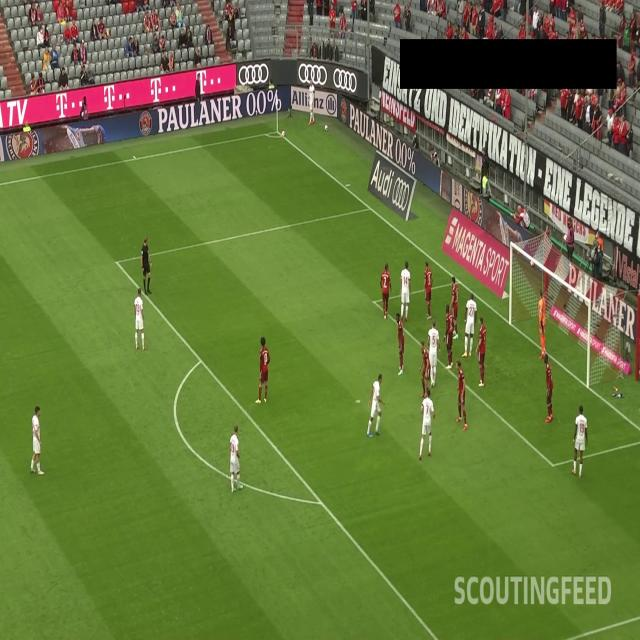ball: (280, 127, 286, 141)
player: (569, 403, 591, 478), (364, 368, 386, 440), (452, 358, 471, 431), (416, 386, 434, 462), (28, 403, 45, 476), (227, 421, 243, 496), (426, 316, 442, 389), (254, 332, 270, 404), (132, 286, 148, 355), (535, 287, 549, 360), (462, 290, 477, 358), (442, 300, 456, 372), (378, 259, 393, 323), (398, 257, 412, 322), (542, 352, 554, 422), (418, 340, 431, 400), (475, 312, 485, 388), (421, 257, 433, 320), (448, 273, 459, 340), (395, 313, 405, 375), (305, 80, 317, 126)
referee: (139, 234, 152, 296)
